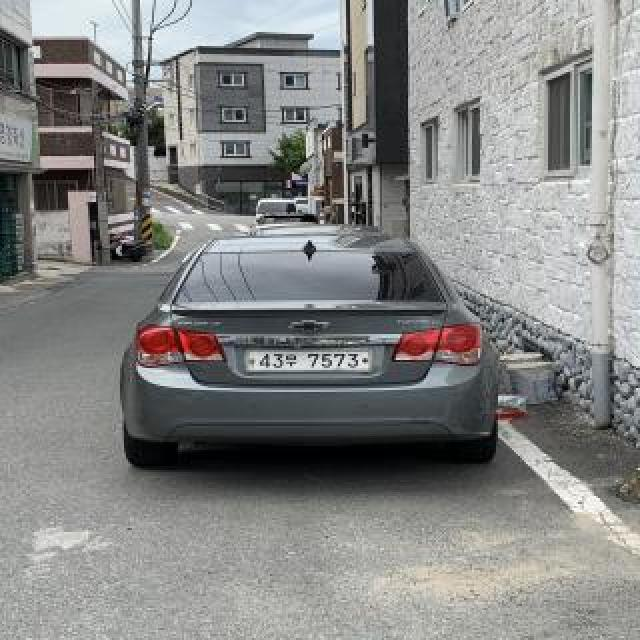car: (115, 228, 500, 478)
illegal_plate: (242, 344, 374, 374)
